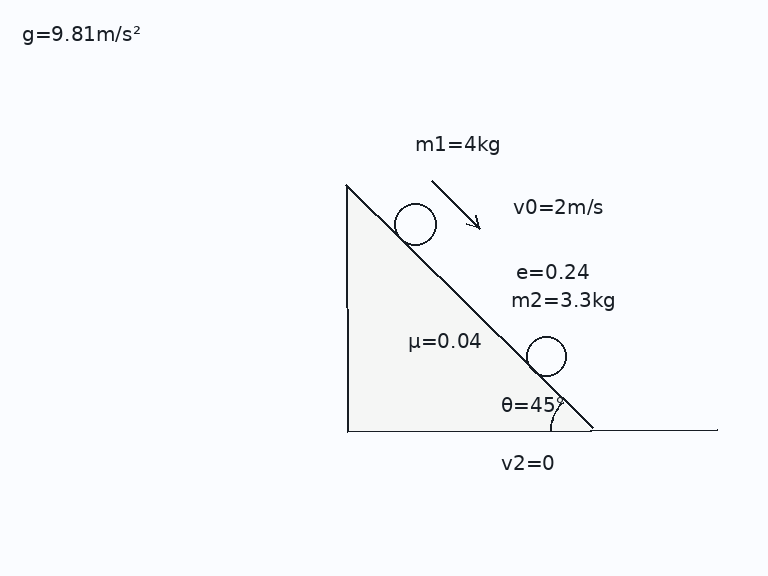ball: (392, 201, 438, 247), (524, 334, 568, 378)
ramp: (345, 184, 593, 432)
